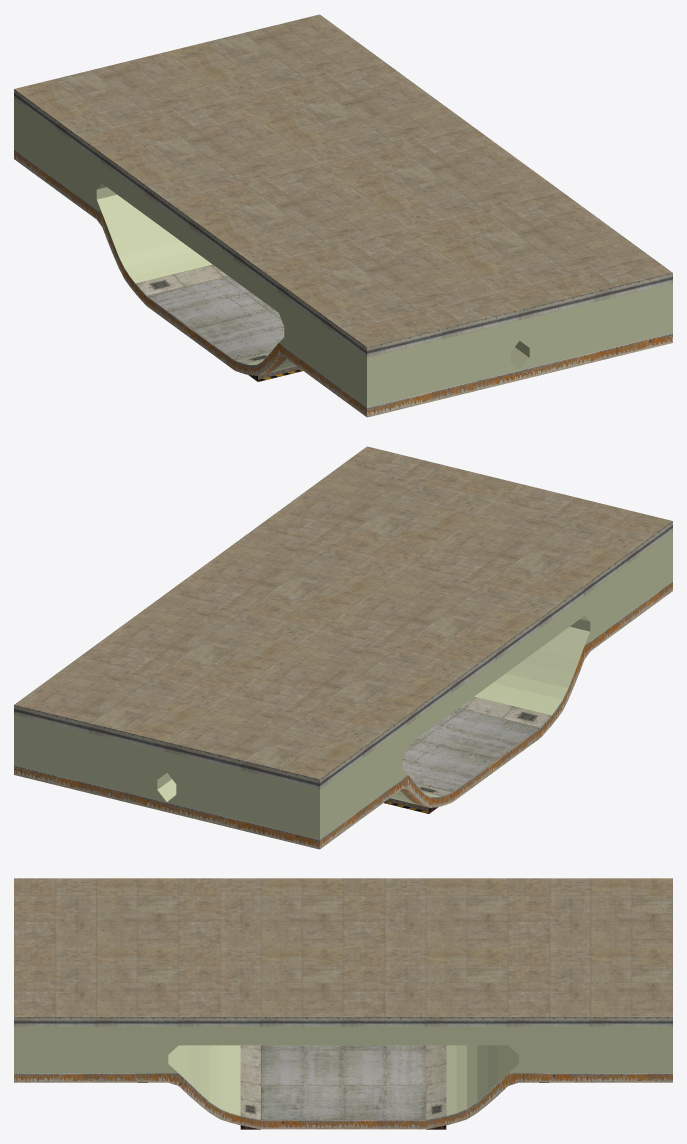
The model's file is PlatformUnitHor_I.fbx.
3 views of the same model, one above another, from view 1: azimuth 30°, elevation 25°; view 2: azimuth 150°, elevation 25°; view 3: azimuth 270°, elevation 25° (orthographic). The views are drawn at different scales.
Parts seen in each view (by area): view 1: PlatformUnitHor_I_Lod0; view 2: PlatformUnitHor_I_Lod0; view 3: PlatformUnitHor_I_Lod0.
Part boxes in pixels (<box>): PlatformUnitHor_I_Lod0: <box>14,14,672,417</box>; PlatformUnitHor_I_Lod0: <box>14,446,672,849</box>; PlatformUnitHor_I_Lod0: <box>14,878,672,1129</box>.
Size of the model in its own units: 32.01 by 12.64 by 64.
